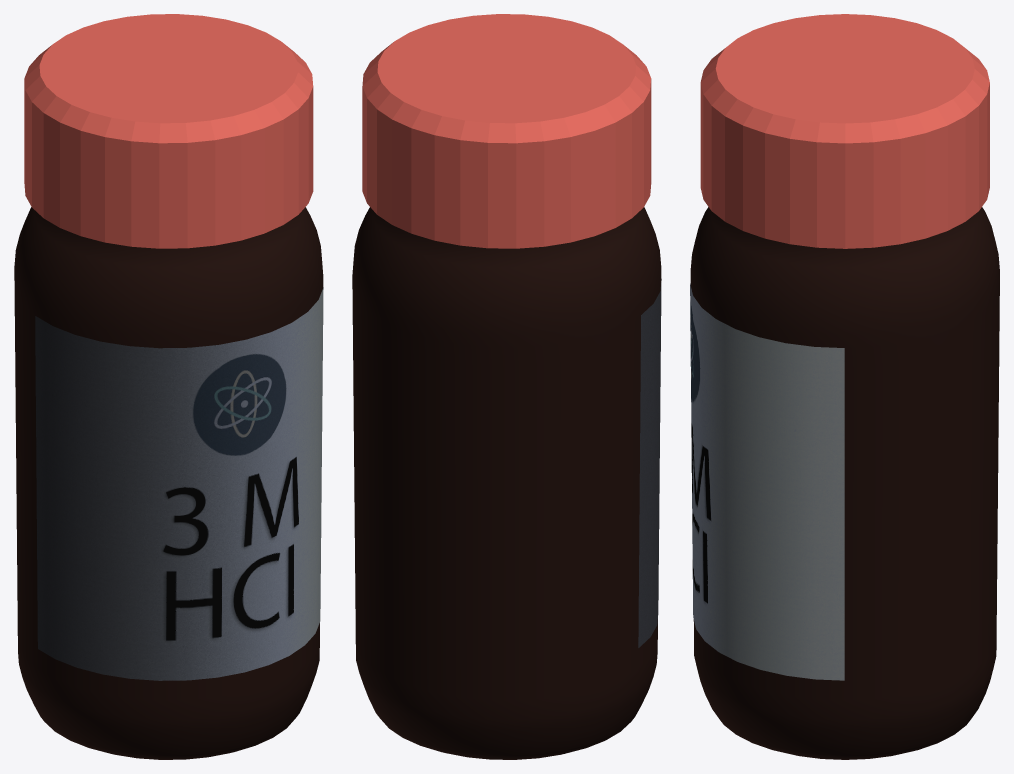
File: 3MHCl.gltf
The picture shows the model from 3 angles, left to right: view 1: azimuth 30°, elevation 25°; view 2: azimuth 150°, elevation 25°; view 3: azimuth 270°, elevation 25°; orthographic projection.
Parts seen in each view (by area): view 1: bottle.001, cap, bottle; view 2: bottle, cap, bottle.001; view 3: bottle, cap, bottle.001.
Part boxes in pixels (left/top/right/bottom): bottle.001: left=35, top=287, right=323, bottom=680; cap: left=24, top=14, right=313, bottom=248; bottle: left=14, top=207, right=323, bottom=759; bottle: left=352, top=207, right=661, bottom=759; cap: left=362, top=14, right=651, bottom=248; bottle.001: left=638, top=279, right=661, bottom=647; bottle: left=690, top=207, right=999, bottom=759; cap: left=700, top=14, right=989, bottom=248; bottle.001: left=690, top=283, right=844, bottom=680.
Size of the model in its own units: 2.51 by 5.72 by 2.51.
Materials: 3 (1 with a texture image).
